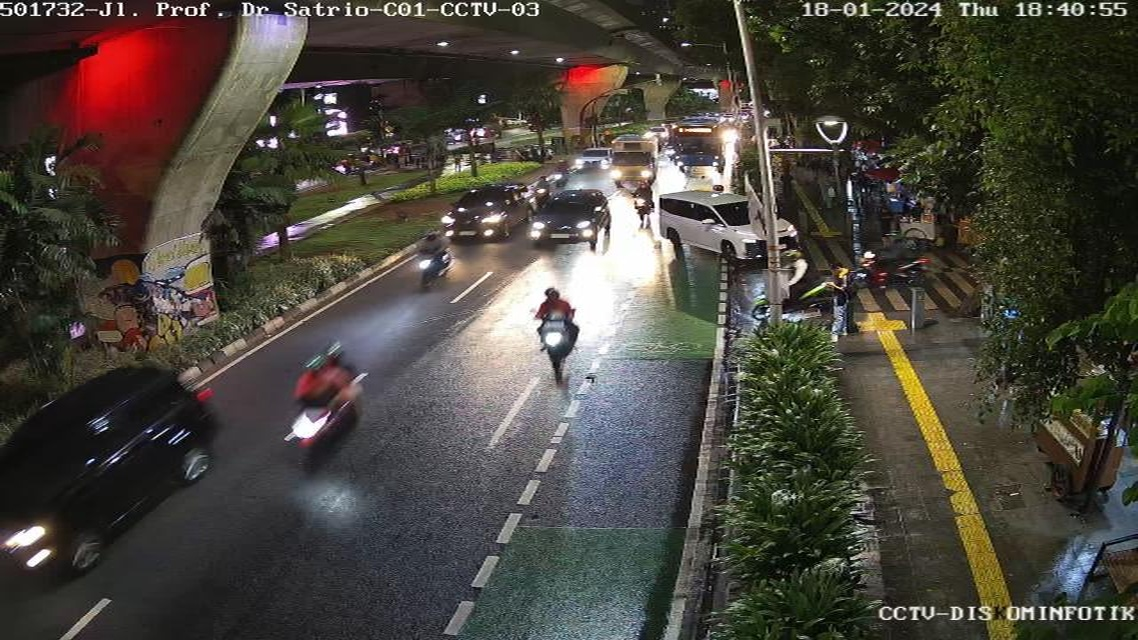Gerobak: (1035, 379, 1131, 510), (896, 209, 944, 245), (877, 178, 907, 214)
